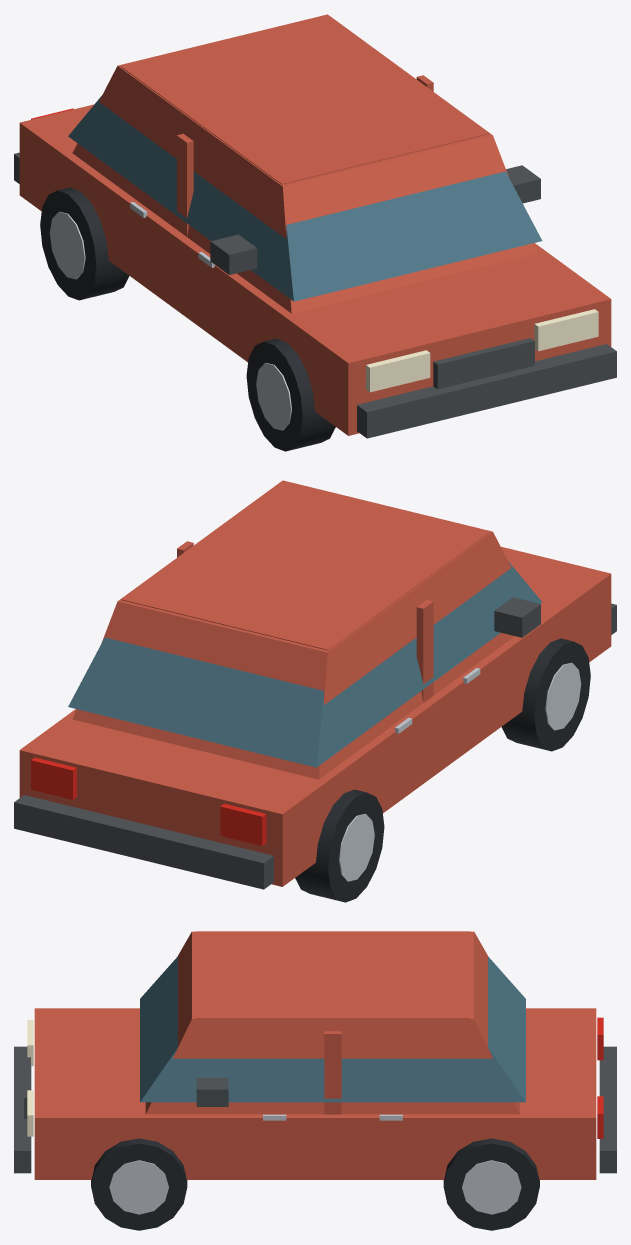
File: hatchback.glb
3 renders of one model, top to bottom at view 1: azimuth 30°, elevation 25°; view 2: azimuth 150°, elevation 25°; view 3: azimuth 270°, elevation 25°, orthographic. The views are drawn at different scales.
Parts seen in each view (by area): view 1: Body, Windows, FrontBumper, WheelRearL, WheelFrontL, Headlights, Grille, Mirrors; view 2: Body, Windows, RearBumper, WheelFrontL, WheelRearL, TailLights, Mirrors; view 3: Body, Windows, WheelFrontR, WheelRearR, RearBumper, FrontBumper, Mirrors, Headlights, TailLights.
Part boxes in pixels (left/top/right/bottom): Body: left=19, top=14, right=611, bottom=435; Windows: left=68, top=96, right=542, bottom=301; FrontBumper: left=357, top=344, right=616, bottom=438; WheelRearL: left=40, top=187, right=129, bottom=300; WheelFrontL: left=246, top=338, right=335, bottom=451; Headlights: left=366, top=309, right=598, bottom=392; Grille: left=433, top=338, right=534, bottom=389; Mirrors: left=210, top=165, right=540, bottom=274; Body: left=19, top=480, right=611, bottom=886; Windows: left=68, top=561, right=542, bottom=767; RearBumper: left=14, top=795, right=273, bottom=889; WheelFrontL: left=501, top=638, right=590, bottom=751; WheelRearL: left=295, top=789, right=384, bottom=902; TailLights: left=31, top=757, right=266, bottom=845; Mirrors: left=494, top=597, right=540, bottom=637; Body: left=34, top=931, right=596, bottom=1179; Windows: left=140, top=956, right=525, bottom=1102; WheelFrontR: left=91, top=1138, right=187, bottom=1230; WheelRearR: left=443, top=1138, right=539, bottom=1230; RearBumper: left=599, top=1046, right=616, bottom=1173; FrontBumper: left=14, top=1046, right=31, bottom=1173; Mirrors: left=196, top=1078, right=228, bottom=1106; Headlights: left=27, top=1020, right=33, bottom=1136; TailLights: left=597, top=1017, right=603, bottom=1138.
Size of the model in its own units: 2.11 by 1.49 by 4.14.
